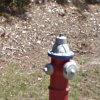Hydrant: (41, 25, 77, 100)
